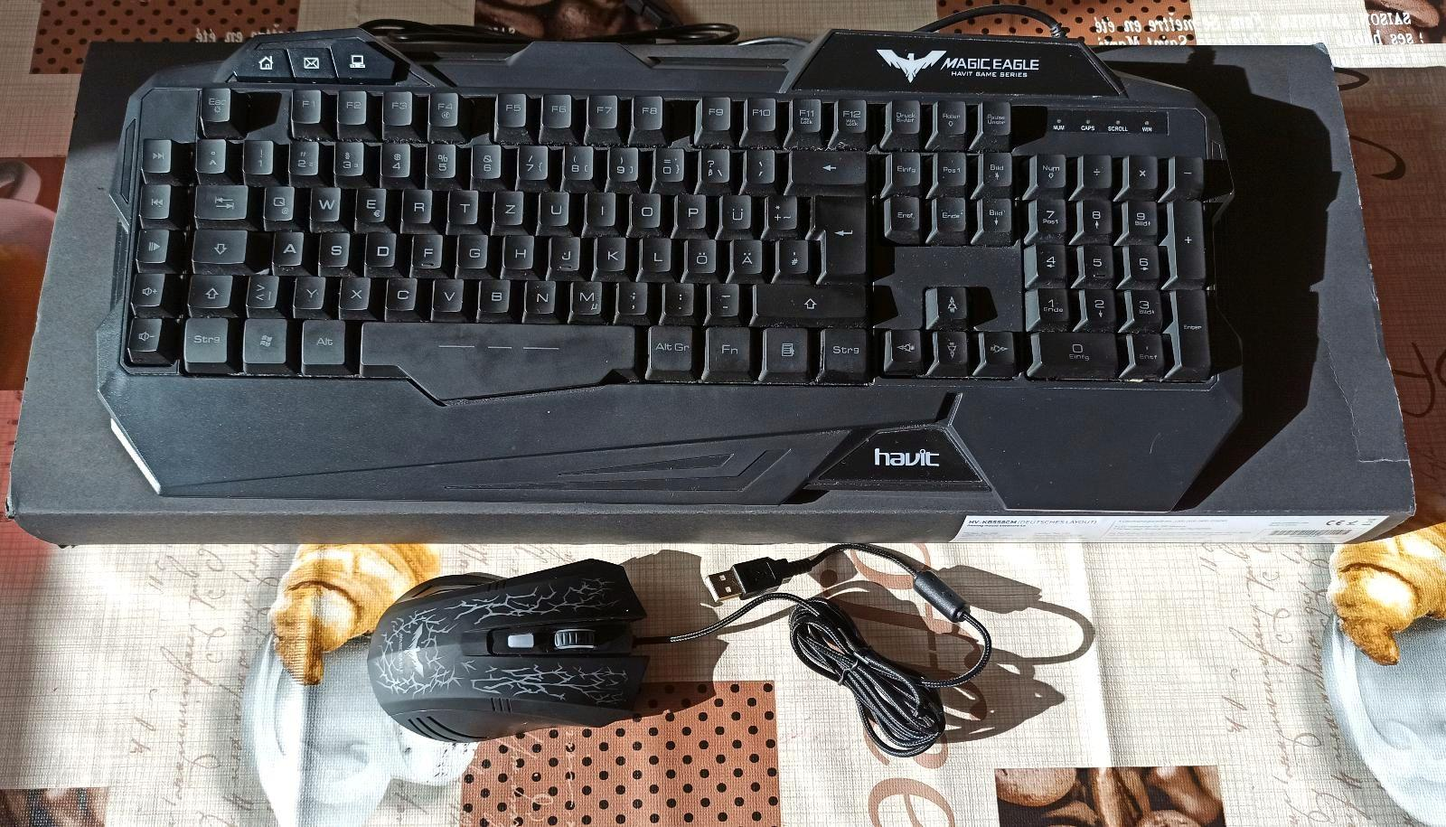0: (653, 144, 684, 181)
1: (242, 136, 273, 173)
2: (287, 137, 318, 174)
3: (333, 137, 363, 175)
4: (379, 138, 410, 175)
5: (425, 140, 456, 177)
6: (471, 140, 502, 177)
7: (517, 141, 548, 178)
8: (561, 142, 593, 179)
9: (606, 144, 638, 180)
a: (271, 227, 302, 263)
accent: (742, 145, 774, 181)
ae: (728, 235, 762, 273)
alt-left: (297, 315, 344, 365)
altgr-right: (644, 322, 693, 372)
b: (476, 275, 511, 311)
c: (382, 274, 417, 309)
caret: (194, 135, 225, 171)
comma: (615, 278, 646, 313)
d: (363, 227, 394, 265)
del: (787, 147, 867, 184)
e: (353, 183, 385, 221)
enter: (808, 191, 866, 276)
f: (410, 230, 441, 267)
g: (455, 230, 486, 268)
h: (501, 230, 532, 268)
hash: (775, 235, 807, 272)
i: (583, 188, 615, 223)
j: (548, 232, 579, 270)
k: (593, 232, 625, 270)
keyboard: (97, 71, 1235, 409)
l: (638, 234, 671, 270)
less: (244, 270, 278, 306)
m: (568, 277, 601, 314)
minus: (707, 279, 737, 315)
n: (523, 277, 556, 313)
o: (628, 189, 661, 226)
oe: (684, 235, 716, 272)
p: (674, 190, 706, 227)
plus: (763, 191, 796, 228)
point: (662, 279, 693, 313)
q: (261, 182, 293, 218)
r: (399, 184, 431, 222)
s: (316, 228, 349, 267)
shift-left: (185, 271, 232, 306)
shift-lock: (190, 226, 248, 262)
shift-right: (751, 280, 865, 317)
space: (355, 316, 634, 402)
ss: (697, 145, 728, 182)
strg-left: (181, 314, 229, 363)
strg-right: (818, 324, 868, 374)
t: (446, 185, 478, 222)
tab: (192, 179, 249, 218)
u: (537, 187, 568, 223)
ue: (719, 191, 751, 228)
v: (431, 275, 463, 309)
w: (308, 182, 340, 220)
x: (337, 274, 370, 308)
y: (292, 272, 324, 307)
z: (492, 186, 523, 223)
